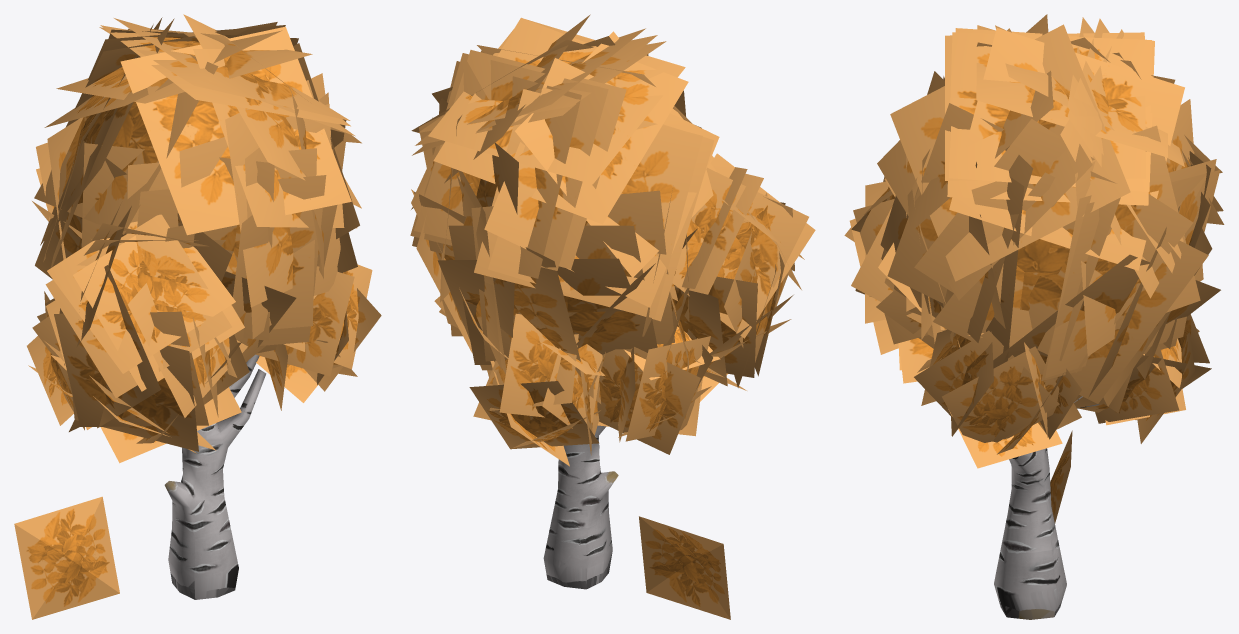
The model's file is birch.fbx.
3 renders of one model, left to right at view 1: azimuth 30°, elevation 25°; view 2: azimuth 150°, elevation 25°; view 3: azimuth 270°, elevation 25°, orthographic. The views are drawn at different scales.
Parts seen in each view (by area): view 1: leaf2.007, leaf1.008, trunk.007, leaf uv isolated.002, leaf3.021, leaf3.020; view 2: leaf2.007, leaf1.008, leaf3.019, leaf3.020, trunk.007, leaf uv isolated.002; view 3: leaf2.007, leaf3.021, trunk.007, leaf1.008, leaf3.019, leaf uv isolated.002.
Boxes of the visible parts, x1,y1,x2,y2 form: leaf2.007: [32, 14, 361, 362]; leaf1.008: [44, 204, 249, 463]; trunk.007: [164, 354, 266, 599]; leaf uv isolated.002: [14, 496, 119, 619]; leaf3.021: [256, 264, 381, 410]; leaf3.020: [27, 291, 84, 431]; leaf2.007: [410, 14, 719, 377]; leaf1.008: [670, 153, 815, 401]; leaf3.019: [469, 313, 605, 466]; leaf3.020: [587, 293, 720, 454]; trunk.007: [543, 425, 618, 589]; leaf uv isolated.002: [639, 516, 730, 619]; leaf2.007: [877, 14, 1224, 406]; leaf3.021: [914, 329, 1081, 468]; trunk.007: [994, 396, 1099, 619]; leaf1.008: [844, 176, 934, 383]; leaf3.019: [1074, 314, 1211, 443]; leaf uv isolated.002: [1050, 430, 1072, 523].
Size of the model in its own units: 406 by 657 by 389.
